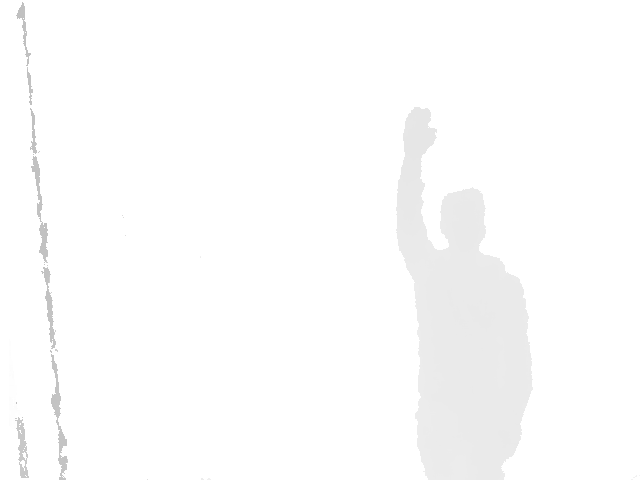hand: (403, 106, 438, 156)
head: (439, 187, 487, 249)
person: (395, 106, 534, 480)
